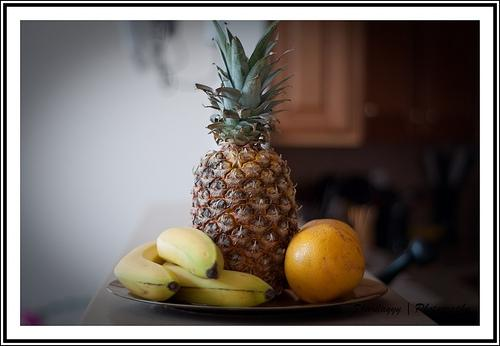banana: (162, 262, 276, 307), (113, 238, 180, 301), (156, 225, 224, 279)
orange: (284, 223, 365, 304), (296, 219, 363, 249)
pineapple: (192, 20, 303, 300)
